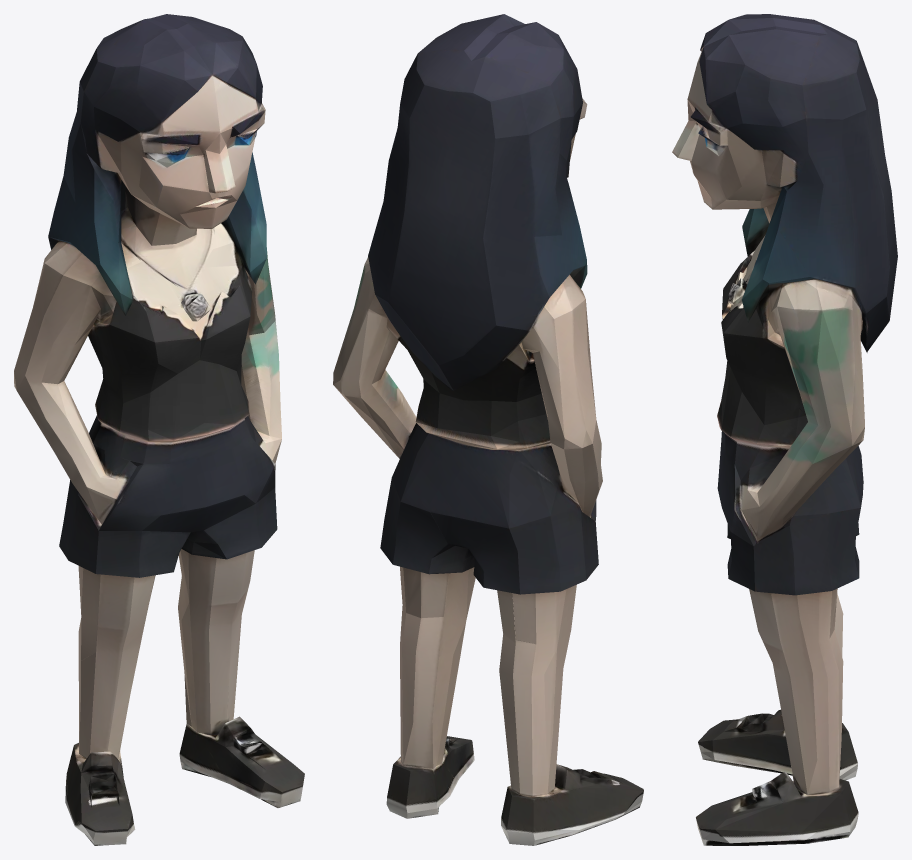
File: gothic-girl.glb
3 views of the same model, side by side, from view 1: azimuth 30°, elevation 25°; view 2: azimuth 150°, elevation 25°; view 3: azimuth 270°, elevation 25° (orthographic).
Parts seen in each view (by area): view 1: model; view 2: model; view 3: model.
Boxes of the visible parts, <box> form: model: <box>14,14,304,845</box>; model: <box>333,14,643,845</box>; model: <box>672,14,897,845</box>.
Bounding box in the file's own units: 0.6205 × 1.8 × 0.473.
Materials: 1 (1 with a texture image).
